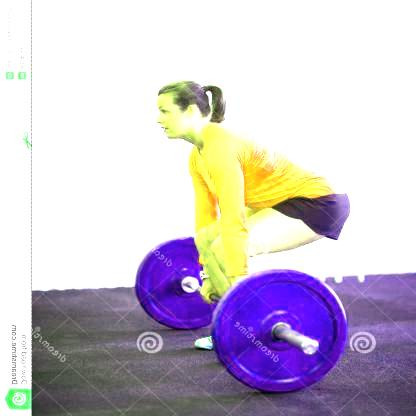Barbell: (299, 340, 320, 358)
